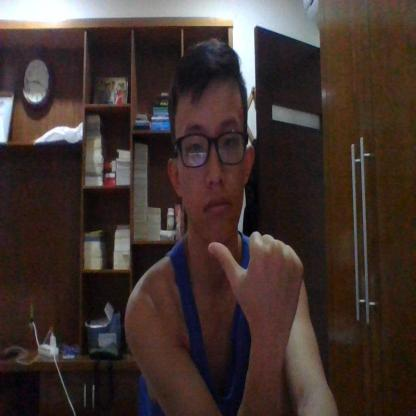right: (207, 227, 308, 345)
